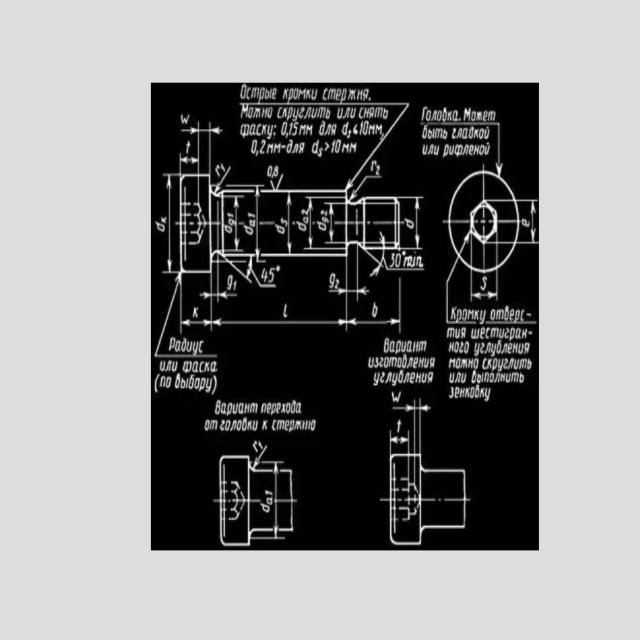marking_line: (209, 276, 351, 330), (347, 100, 411, 189), (341, 260, 403, 335), (304, 195, 346, 251), (393, 398, 432, 454), (181, 120, 222, 173), (156, 274, 181, 359), (179, 275, 214, 333), (162, 171, 179, 275), (329, 258, 369, 299), (366, 252, 425, 278), (400, 194, 425, 252), (197, 274, 237, 304), (225, 194, 245, 254), (181, 121, 201, 173), (520, 195, 539, 246), (323, 202, 345, 245), (350, 175, 383, 202), (471, 273, 499, 304), (353, 256, 370, 302), (207, 122, 222, 172), (273, 462, 280, 539), (254, 186, 261, 259), (495, 119, 504, 175), (389, 430, 410, 453), (178, 151, 200, 172), (215, 165, 232, 192), (285, 195, 292, 254), (253, 445, 268, 467), (460, 231, 470, 255)
numeric: (268, 266, 276, 283), (480, 276, 488, 292), (280, 121, 287, 137), (261, 268, 269, 282), (392, 391, 402, 402), (334, 139, 341, 154), (328, 273, 335, 288), (395, 417, 402, 432), (395, 251, 401, 268), (521, 217, 530, 228), (293, 122, 300, 136), (363, 120, 369, 136), (390, 252, 396, 268), (227, 274, 233, 290), (251, 139, 257, 154), (228, 217, 237, 227), (260, 140, 265, 155), (280, 217, 288, 226), (264, 488, 272, 497), (273, 165, 279, 176), (267, 164, 272, 177), (359, 121, 363, 137), (248, 210, 256, 218), (331, 139, 335, 154), (375, 165, 381, 175), (258, 440, 264, 450), (227, 212, 235, 219), (334, 278, 339, 289), (318, 148, 323, 158), (160, 217, 167, 224), (233, 280, 237, 292), (289, 122, 292, 136), (320, 210, 327, 216), (302, 209, 310, 214)
special_symbol: (270, 174, 283, 188), (353, 124, 359, 135), (324, 140, 329, 152), (276, 264, 281, 273), (282, 144, 288, 149), (402, 250, 407, 256), (256, 150, 259, 157)
